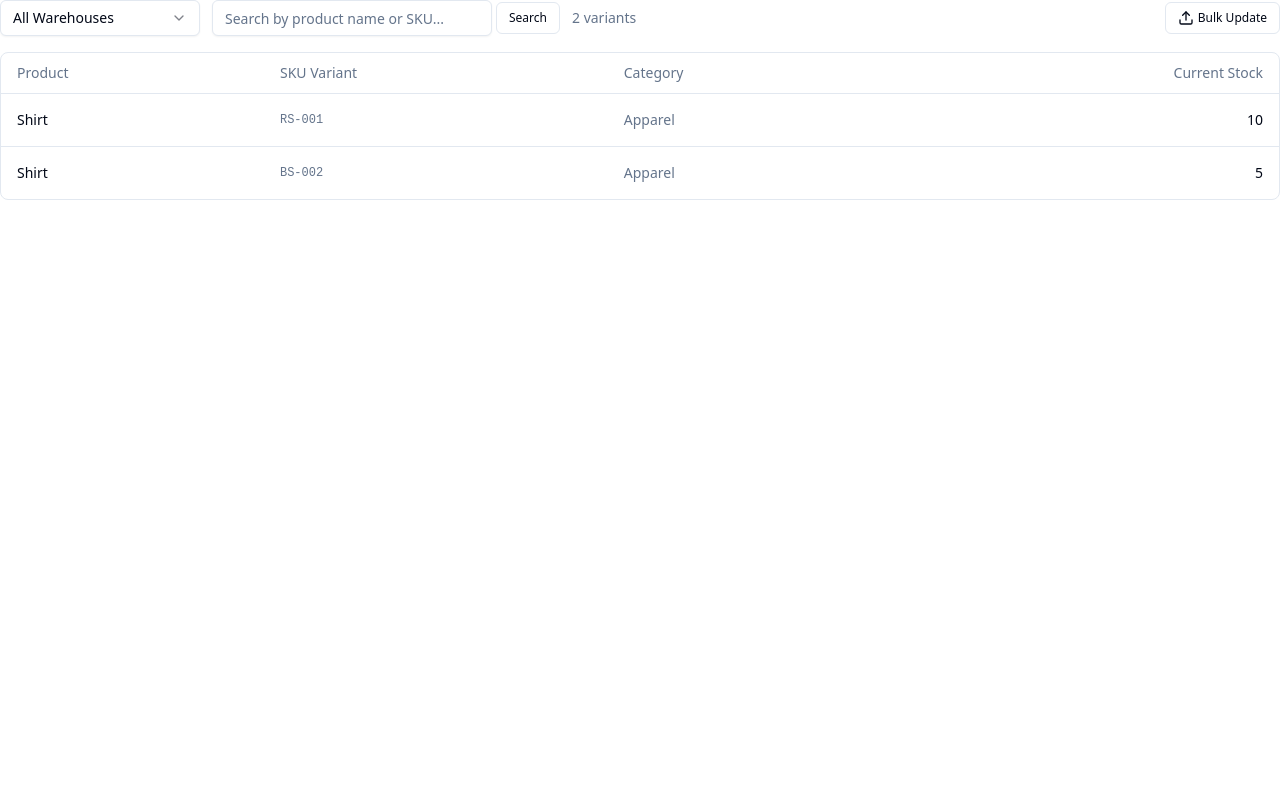
it: BulkEditModal shows "Show ▼" toggle and the list is hidden by default
This screenshot has width=1280, height=800.
Click the dropdown at (100, 18), box [0, 0, 200, 36]
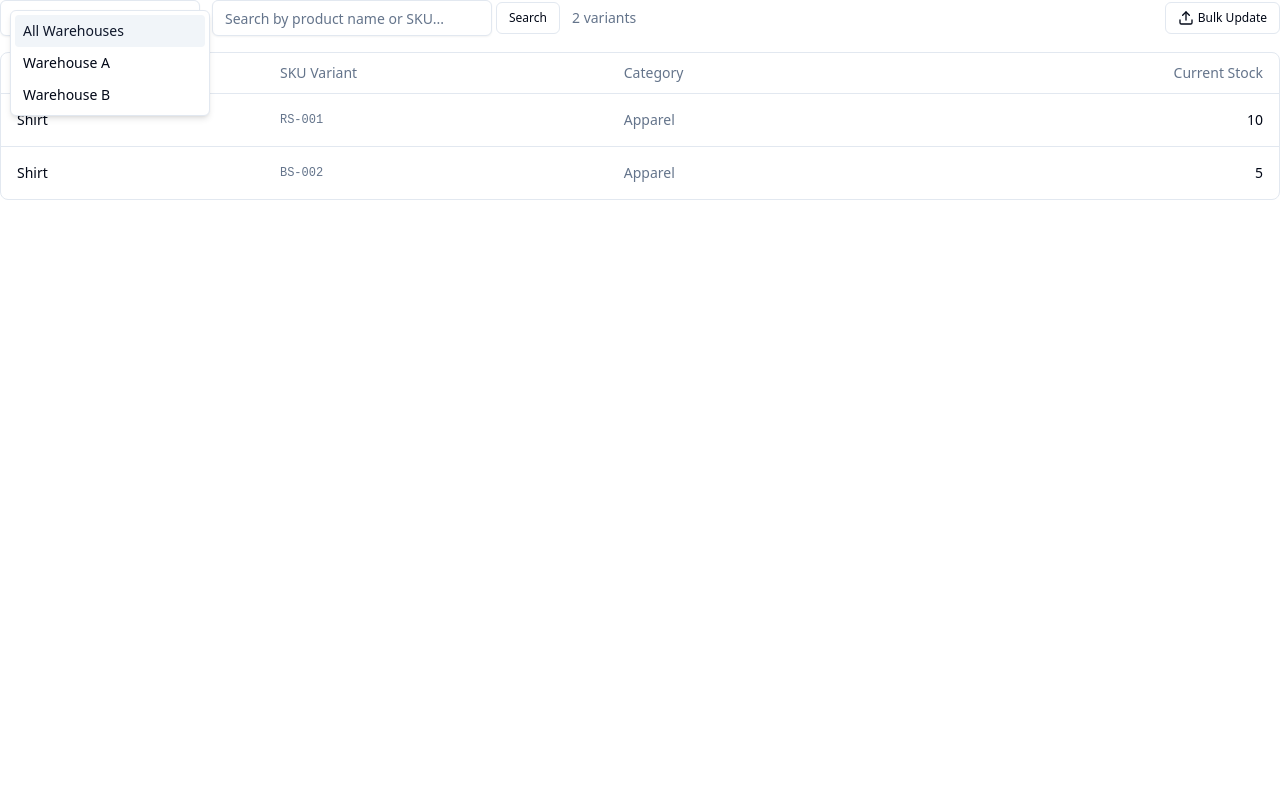
Click the option "Warehouse A" at (66, 62), box [23, 53, 110, 72]
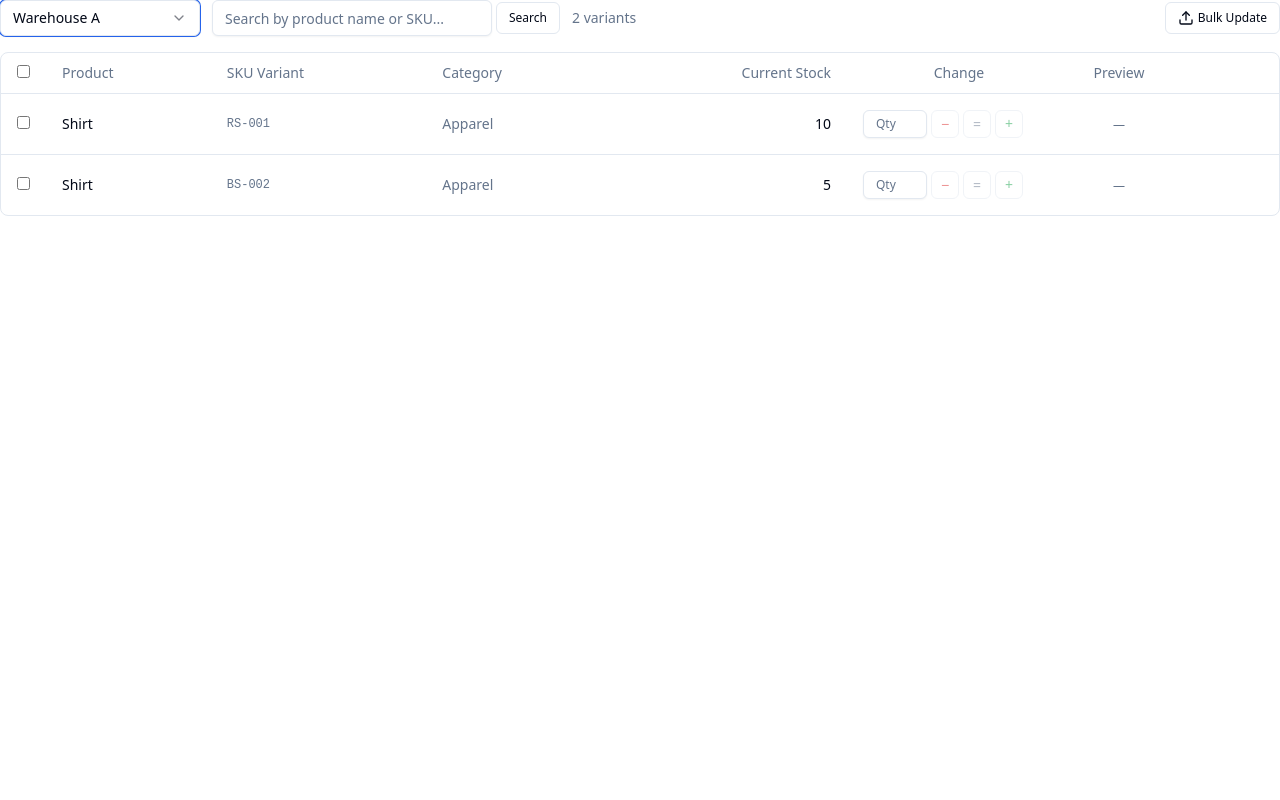
Click the checkbox next to "Product" at (24, 71), box [17, 65, 30, 78]
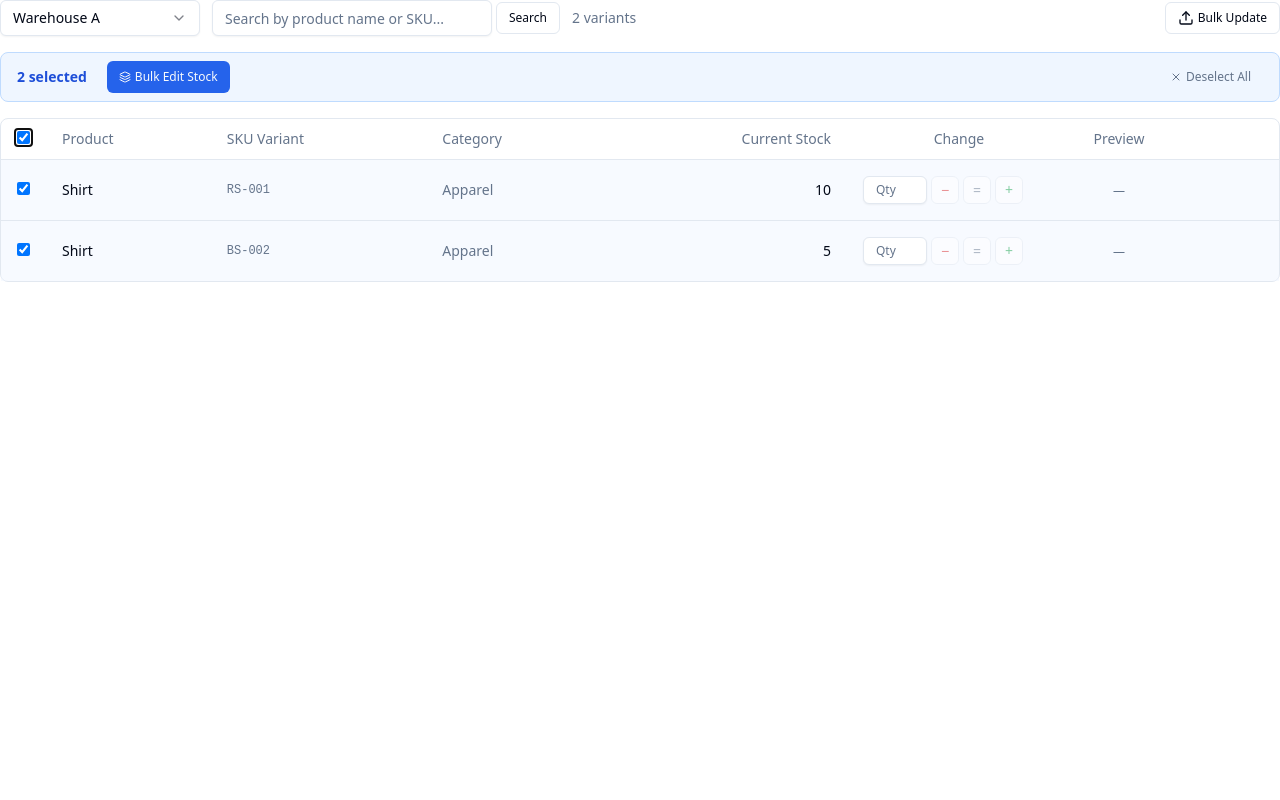
Click the button "Bulk Edit Stock" at (168, 77), box [107, 61, 230, 93]
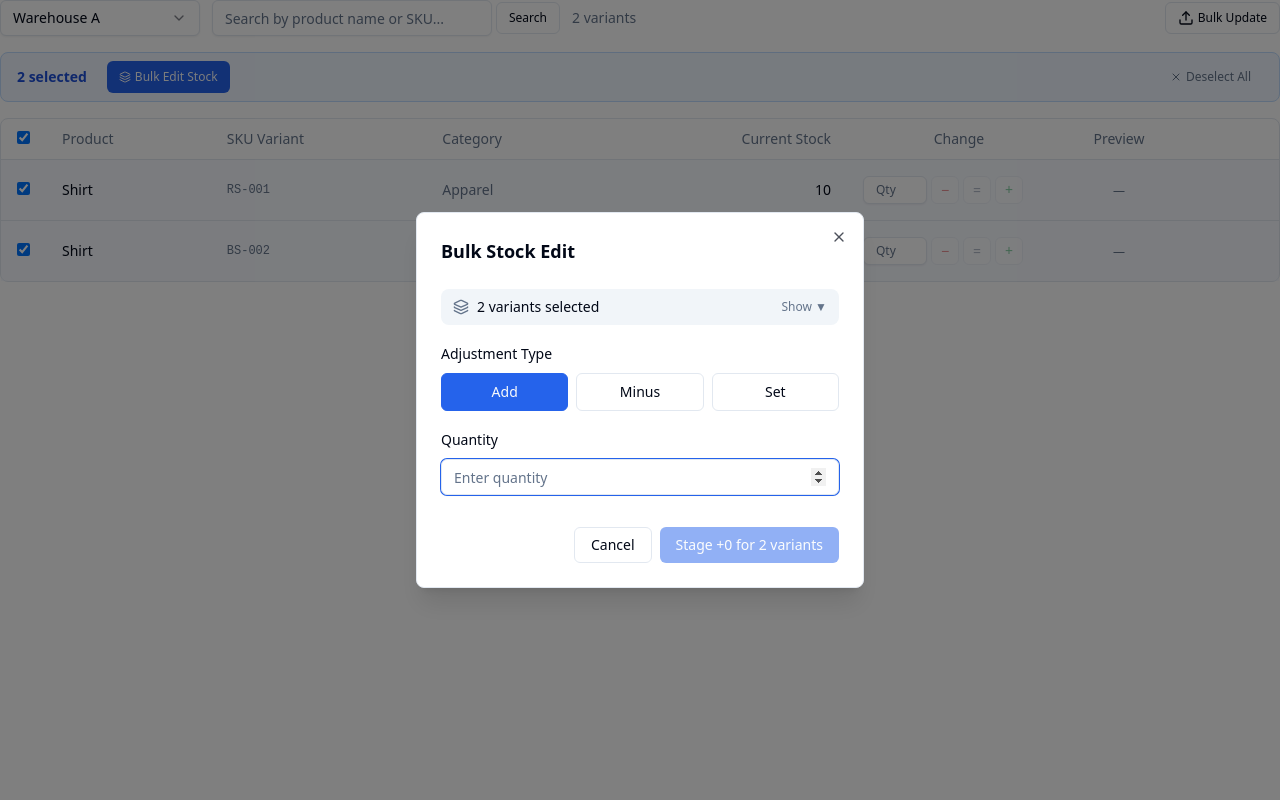
Now the button "2 variants selected Show ▼" is shown, box [441, 289, 839, 325]
